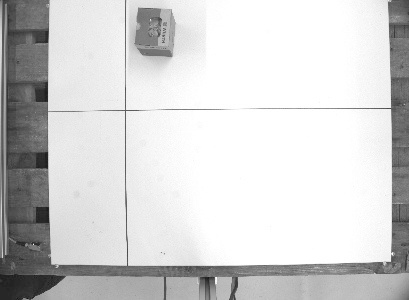b7: (131, 5, 177, 59)
